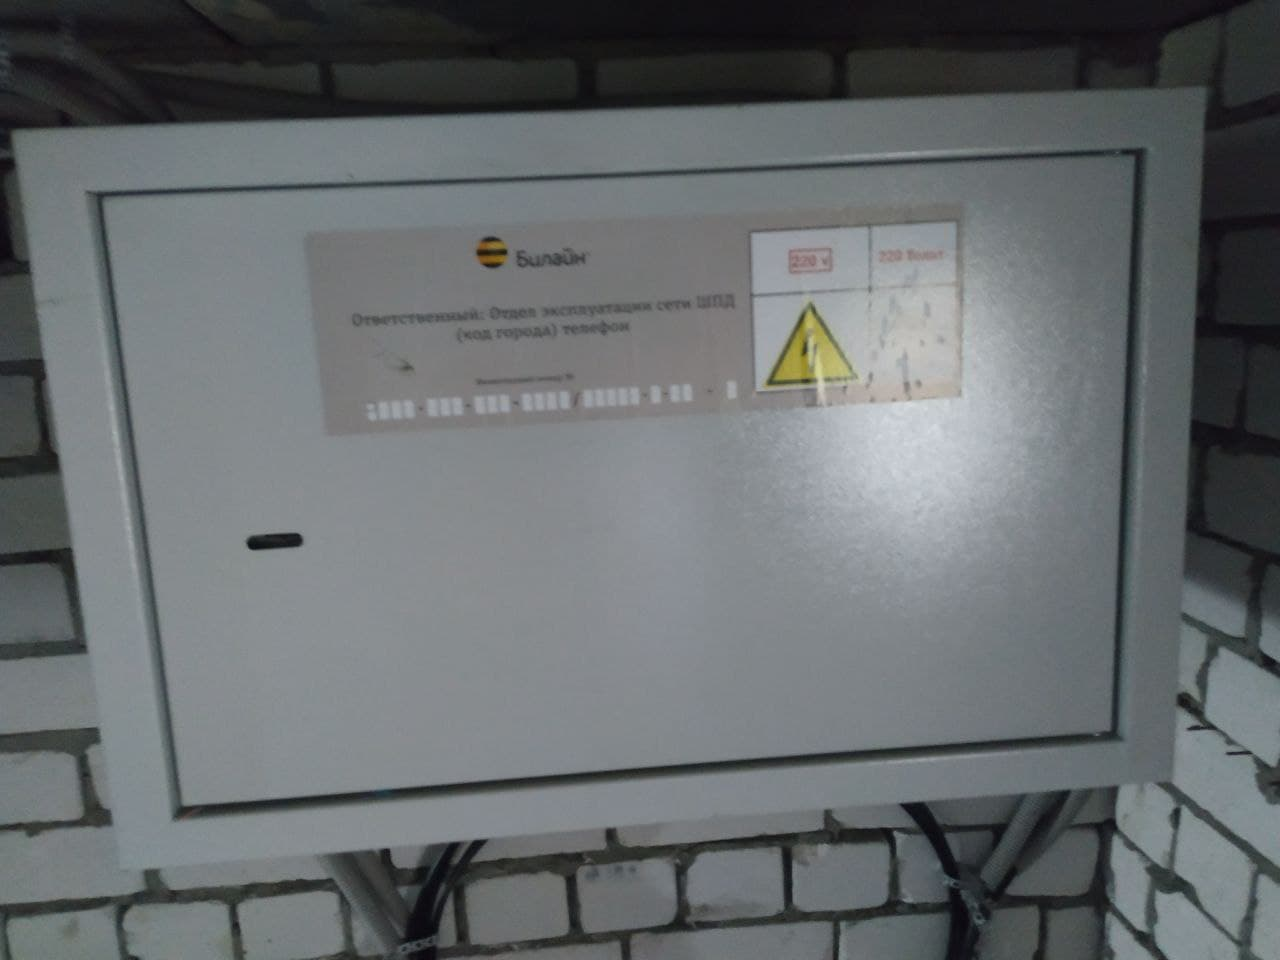shta-7m: (5, 68, 1218, 879)
